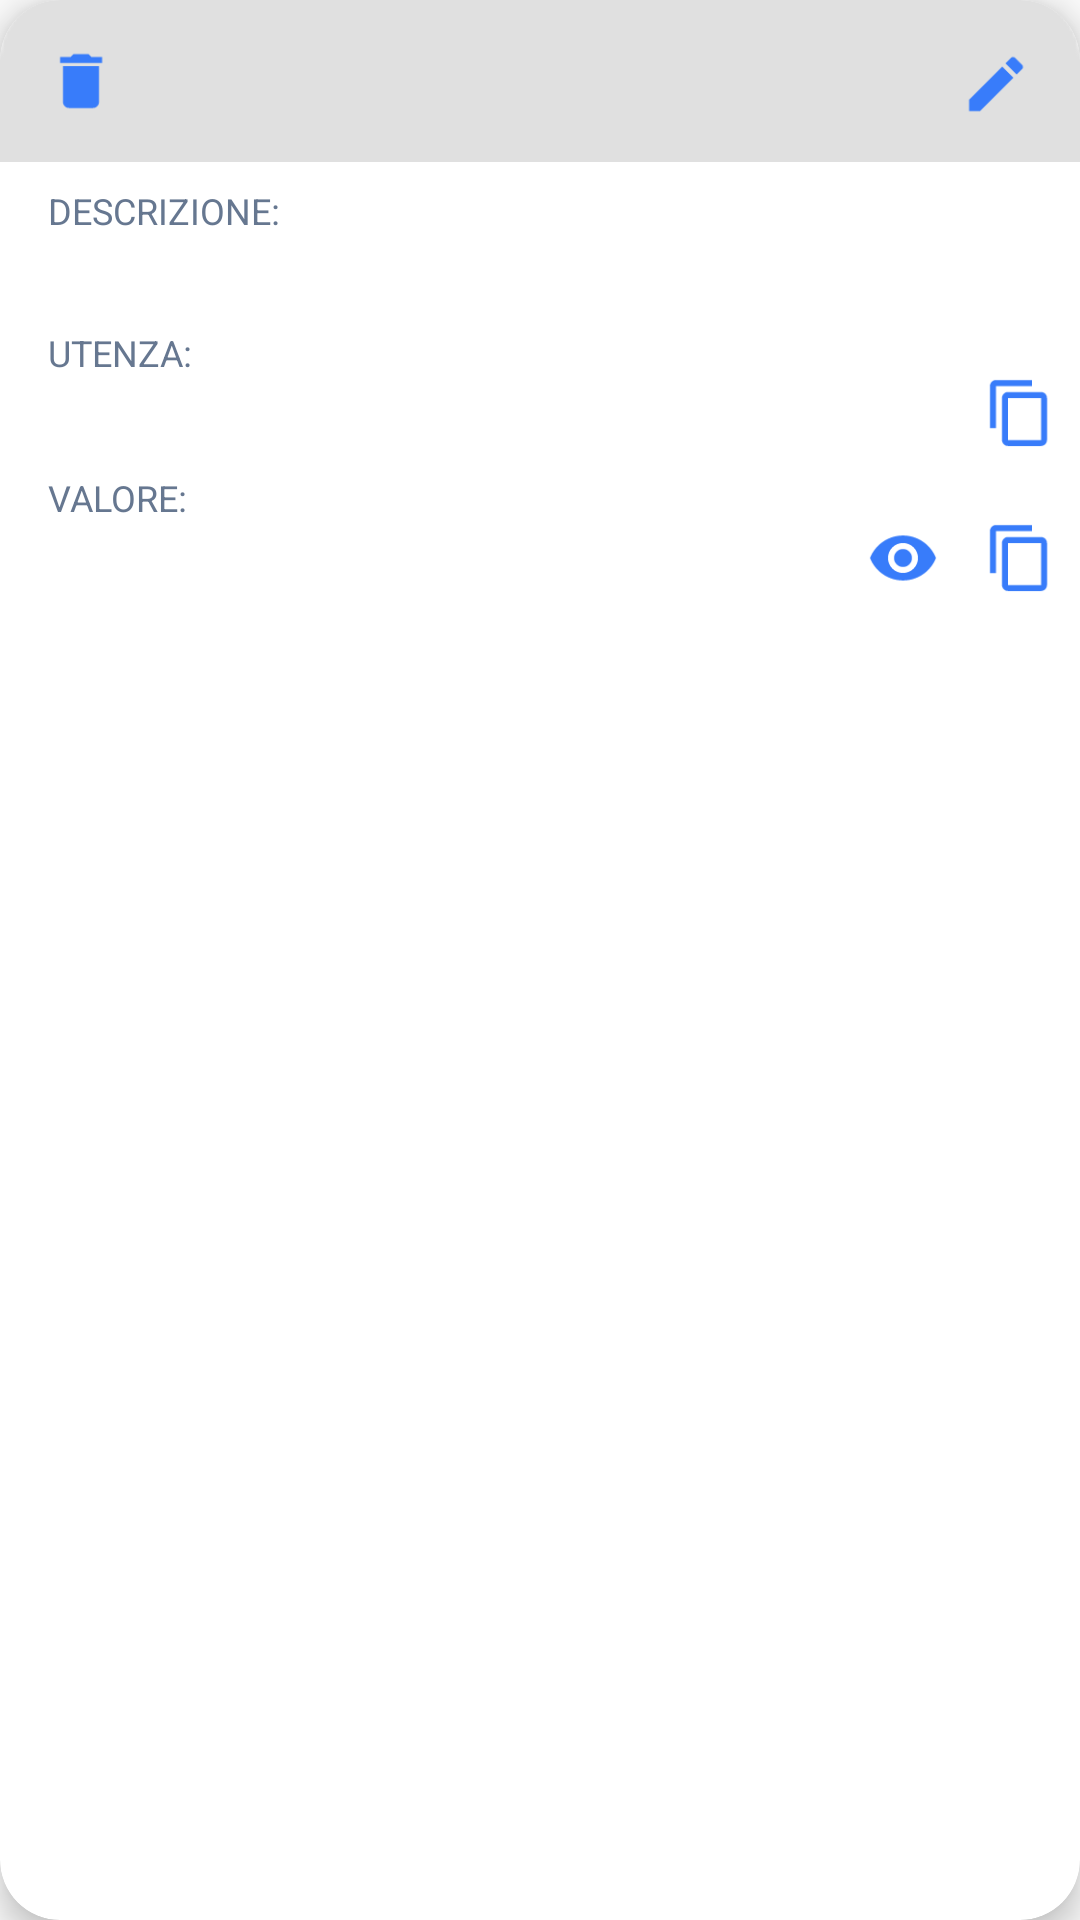

Icon bounding boxes for this 1080w x 1920h phone screenshot, format (x1, y1, x2, y2):
toggle password: (870, 535, 936, 581)
